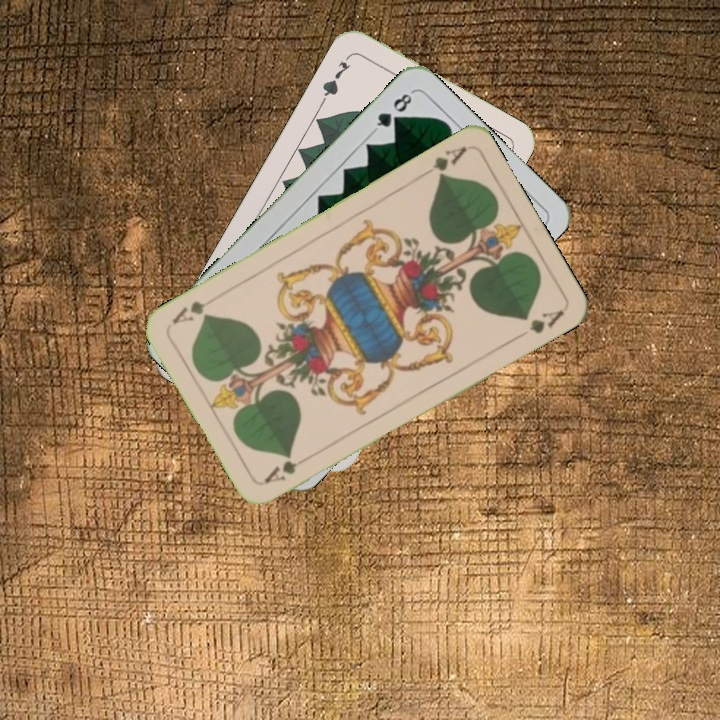G7: (318, 51, 354, 105)
G8: (370, 87, 416, 134)
GA: (416, 142, 470, 181), (260, 451, 314, 486)
